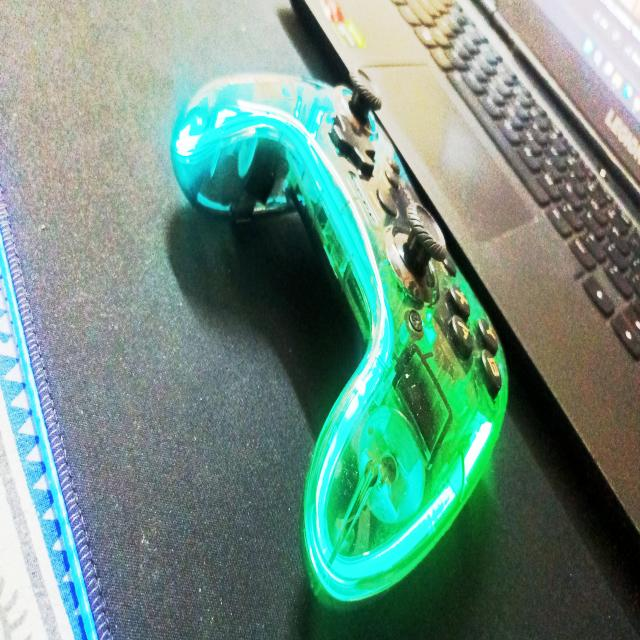gamepad: (169, 70, 510, 608)
